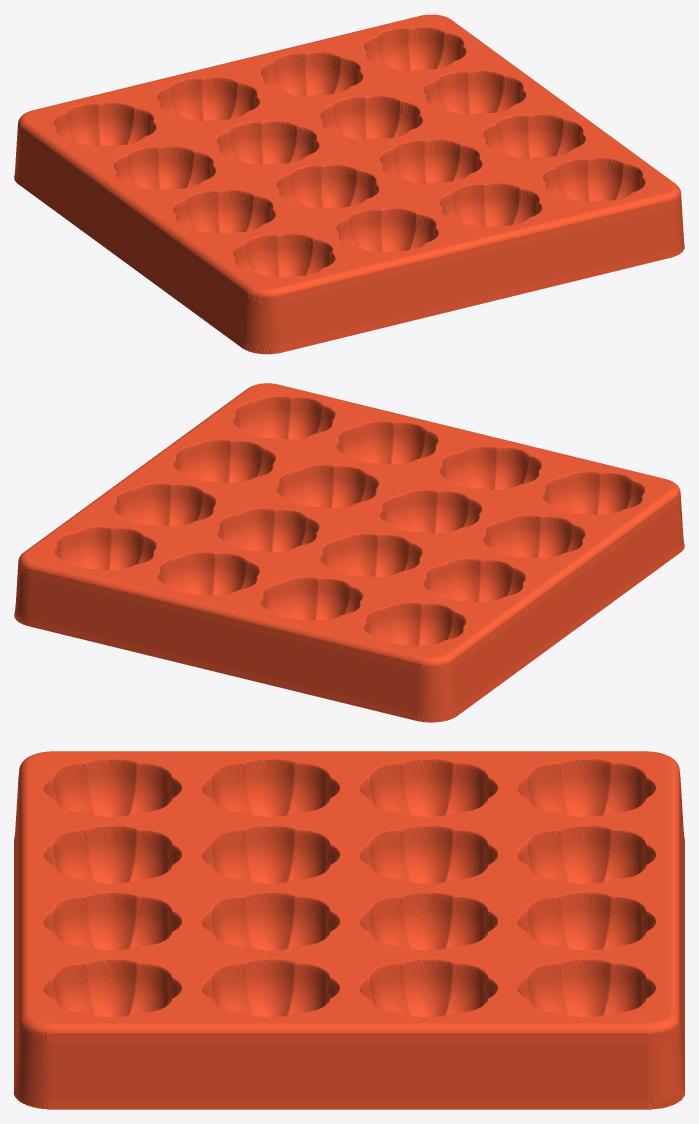
Rendered from mold.glb.
3 renders of one model, top to bottom at view 1: azimuth 30°, elevation 25°; view 2: azimuth 150°, elevation 25°; view 3: azimuth 270°, elevation 25°, orthographic. The views are drawn at different scales.
Visible parts, largest first — view 1: geometry_0; view 2: geometry_0; view 3: geometry_0.
Boxes of the visible parts, box(x1,y1,x2,y2) form: geometry_0: box(14, 14, 684, 354); geometry_0: box(14, 383, 684, 722); geometry_0: box(14, 751, 684, 1109).
Bounding box in the file's own units: 0.1569 × 0.0207 × 0.1569.
